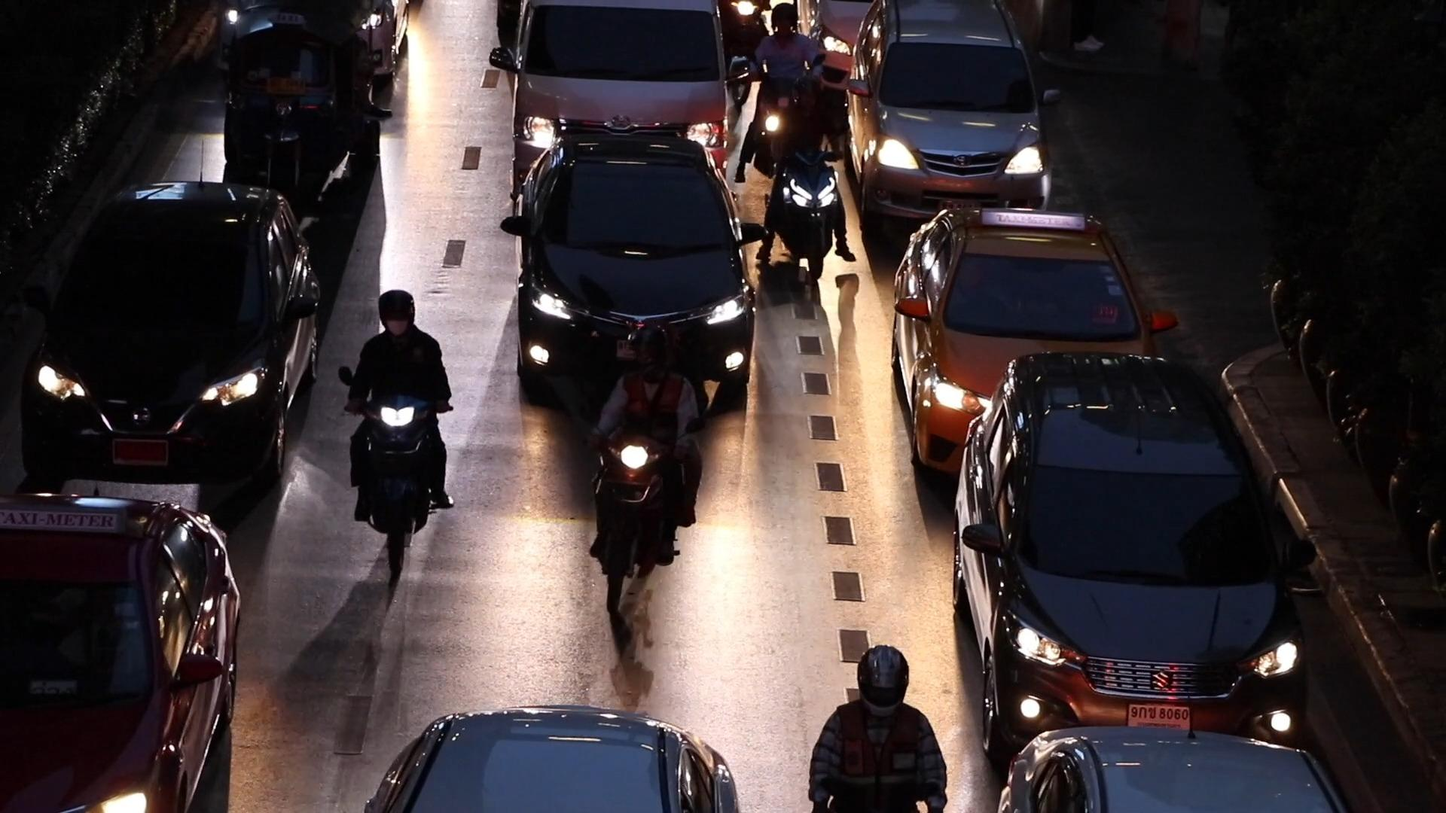driver: (582, 318, 709, 613), (339, 289, 454, 571), (755, 73, 857, 280)
helmet: (856, 644, 910, 719), (631, 324, 671, 381), (379, 290, 415, 339), (792, 74, 825, 118), (771, 2, 800, 40)
